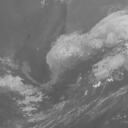cyclone: (47, 8, 127, 83)
